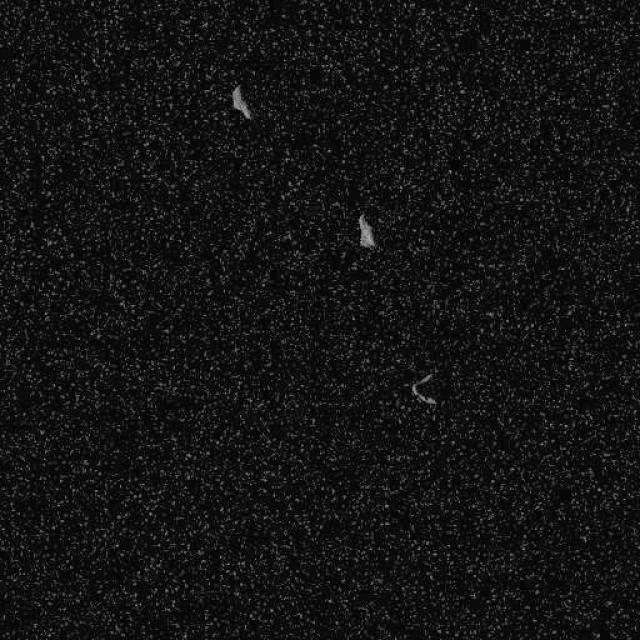D2: (408, 372, 438, 406), (230, 82, 252, 120), (356, 212, 375, 248)
